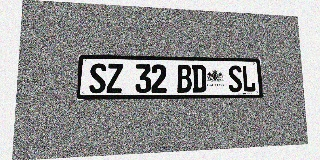2: (151, 64, 166, 93)
3: (135, 64, 151, 93)
B: (177, 64, 192, 93)
D: (192, 65, 206, 92)
L: (242, 65, 256, 92)
S: (89, 63, 106, 93), (228, 65, 242, 92)
Z: (106, 63, 123, 93)
